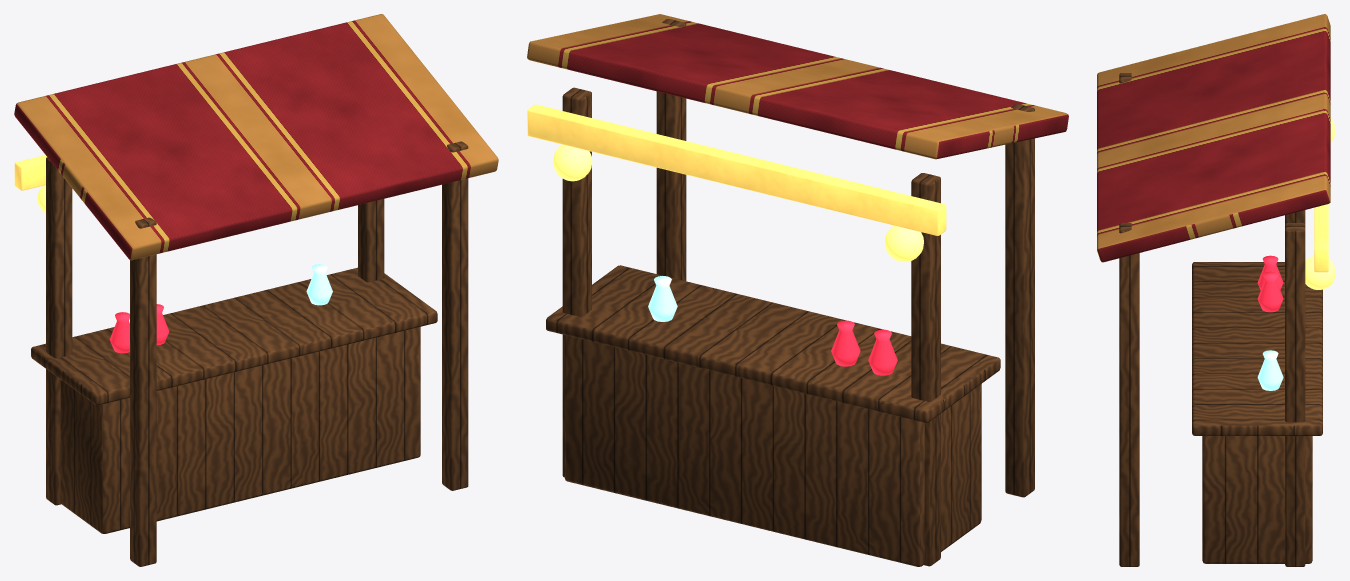
File: merchant_stall.glb
3 renders of one model, left to right at view 1: azimuth 30°, elevation 25°; view 2: azimuth 150°, elevation 25°; view 3: azimuth 270°, elevation 25°, orthographic. The views are drawn at different scales.
Parts seen in each view (by area): view 1: Awning, Counter, CounterTop, Post.002, Post, Post.001, Post.003, AwningTrim, DisplayVial.002, DisplayVial; view 2: Counter, Awning, CounterTop, AwningTrim, Post, Post.001, Post.003, Post.002, StallLantern, StallLantern.001, DisplayVial.001, DisplayVial (+1 smaller); view 3: Awning, CounterTop, Counter, Post.003, Post.002, AwningTrim, DisplayVial.002, DisplayVial.001, StallLantern.001, DisplayVial.
Boxes of the visible parts, box(x1,y1,x2,y2) form: Awning: box(14, 14, 498, 260); Counter: box(60, 327, 420, 533); CounterTop: box(31, 267, 437, 405); Post.002: box(442, 141, 468, 490); Post: box(130, 217, 156, 566); Post.001: box(46, 157, 72, 505); Post.003: box(358, 199, 384, 282); AwningTrim: box(14, 155, 46, 190); DisplayVial.002: box(306, 264, 332, 305); DisplayVial: box(109, 312, 129, 353); Counter: box(564, 335, 981, 566); Awning: box(527, 14, 1068, 159); CounterTop: box(546, 265, 1000, 422); AwningTrim: box(527, 104, 946, 235); Post: box(1005, 104, 1034, 497); Post.001: box(911, 173, 940, 566); Post.003: box(562, 87, 591, 477); Post.002: box(656, 19, 686, 281); StallLantern: box(884, 225, 923, 262); StallLantern.001: box(553, 145, 592, 181); DisplayVial.001: box(831, 320, 860, 366); DisplayVial: box(868, 329, 897, 375); Awning: box(1097, 14, 1330, 262); CounterTop: box(1192, 262, 1322, 435); Counter: box(1202, 436, 1312, 563); Post.003: box(1285, 223, 1305, 566); Post.002: box(1119, 223, 1139, 566); AwningTrim: box(1314, 204, 1328, 272); DisplayVial.002: box(1257, 350, 1283, 390); DisplayVial.001: box(1257, 271, 1283, 312); StallLantern.001: box(1305, 256, 1335, 289); DisplayVial: box(1257, 255, 1283, 289).
Bounding box in the file's own units: 2.88 × 2.94 × 1.64.
Materials: 7 (4 with a texture image).
